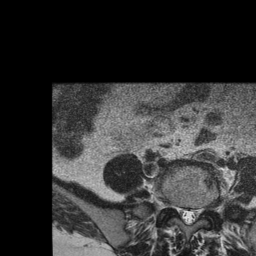CCS_normal: (185, 201, 191, 229)
LFS_severe_stenosis: (200, 202, 208, 220)
LLS_normal: (192, 203, 200, 224)
RFS_severe_stenosis: (169, 197, 177, 214)
RLS_normal: (177, 202, 185, 223)
